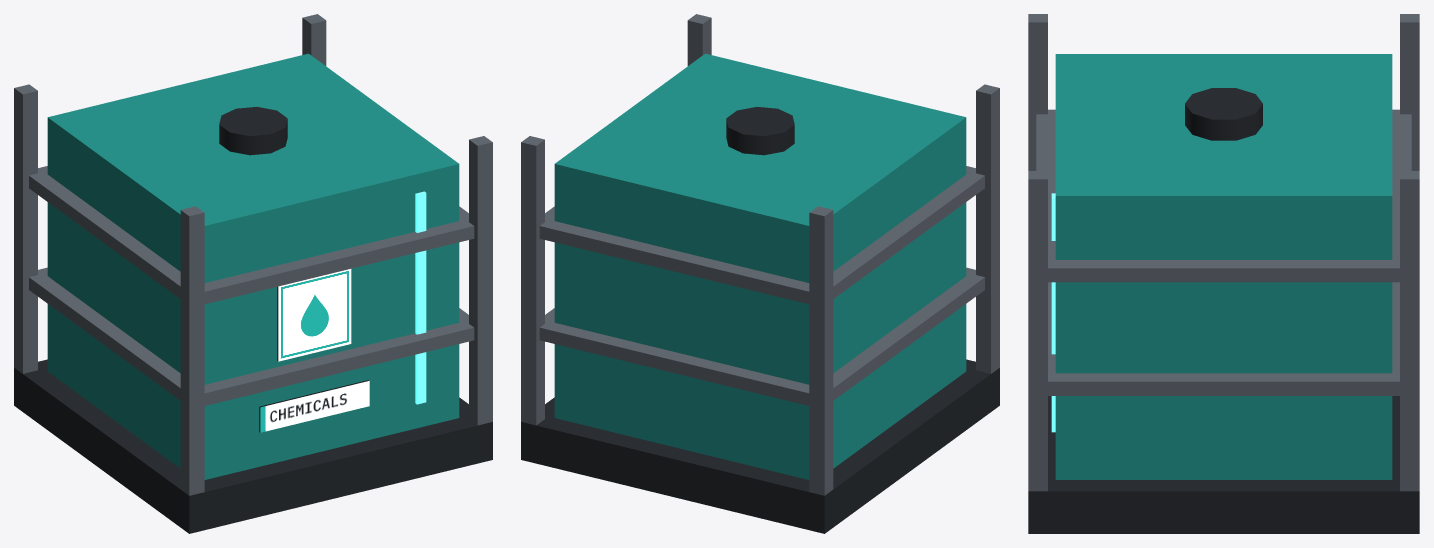
File: cargo_04_tote.glb
The picture shows the model from 3 angles, left to right: view 1: azimuth 30°, elevation 25°; view 2: azimuth 150°, elevation 25°; view 3: azimuth 270°, elevation 25°; orthographic projection. The views are drawn at different scales.
Parts seen in each view (by area): view 1: tank, pallet, cage_belt_1, cage_belt_2, cage_post_3, cage_post_4, cage_post_1, placard_front, manifest, filler_cap, level_strip, cage_post_2; view 2: tank, pallet, cage_belt_1, cage_belt_2, cage_post_1, cage_post_2, cage_post_3, filler_cap, cage_post_4; view 3: tank, pallet, cage_belt_2, cage_belt_1, cage_post_2, cage_post_4, filler_cap, cage_post_1, cage_post_3, level_strip.
Boxes of the visible parts, bbox=[...] form: tank: bbox=[47, 53, 459, 479]; pallet: bbox=[14, 359, 492, 533]; cage_belt_1: bbox=[29, 267, 474, 405]; cage_belt_2: bbox=[29, 166, 474, 304]; cage_post_3: bbox=[180, 206, 204, 495]; cage_post_4: bbox=[469, 136, 492, 425]; cage_post_1: bbox=[14, 84, 37, 373]; placard_front: bbox=[277, 269, 351, 361]; manifest: bbox=[259, 380, 369, 432]; filler_cap: bbox=[219, 107, 287, 155]; level_strip: bbox=[415, 191, 426, 404]; cage_post_2: bbox=[302, 14, 326, 65]; tank: bbox=[554, 53, 966, 479]; pallet: bbox=[521, 359, 999, 533]; cage_belt_1: bbox=[539, 267, 984, 405]; cage_belt_2: bbox=[539, 166, 984, 304]; cage_post_1: bbox=[809, 206, 833, 495]; cage_post_2: bbox=[521, 136, 544, 425]; cage_post_3: bbox=[976, 84, 999, 373]; filler_cap: bbox=[726, 107, 794, 155]; cage_post_4: bbox=[687, 14, 711, 65]; tank: bbox=[1055, 54, 1392, 479]; pallet: bbox=[1028, 396, 1419, 533]; cage_belt_2: bbox=[1036, 109, 1411, 282]; cage_belt_1: bbox=[1048, 282, 1399, 395]; cage_post_2: bbox=[1400, 171, 1419, 491]; cage_post_4: bbox=[1028, 171, 1047, 491]; filler_cap: bbox=[1185, 88, 1262, 140]; cage_post_1: bbox=[1400, 14, 1419, 170]; cage_post_3: bbox=[1028, 14, 1047, 170]; level_strip: bbox=[1051, 193, 1055, 432].
Bounding box in the file's own units: 1 × 1 × 1.
Materials: 7 (2 with a texture image).
